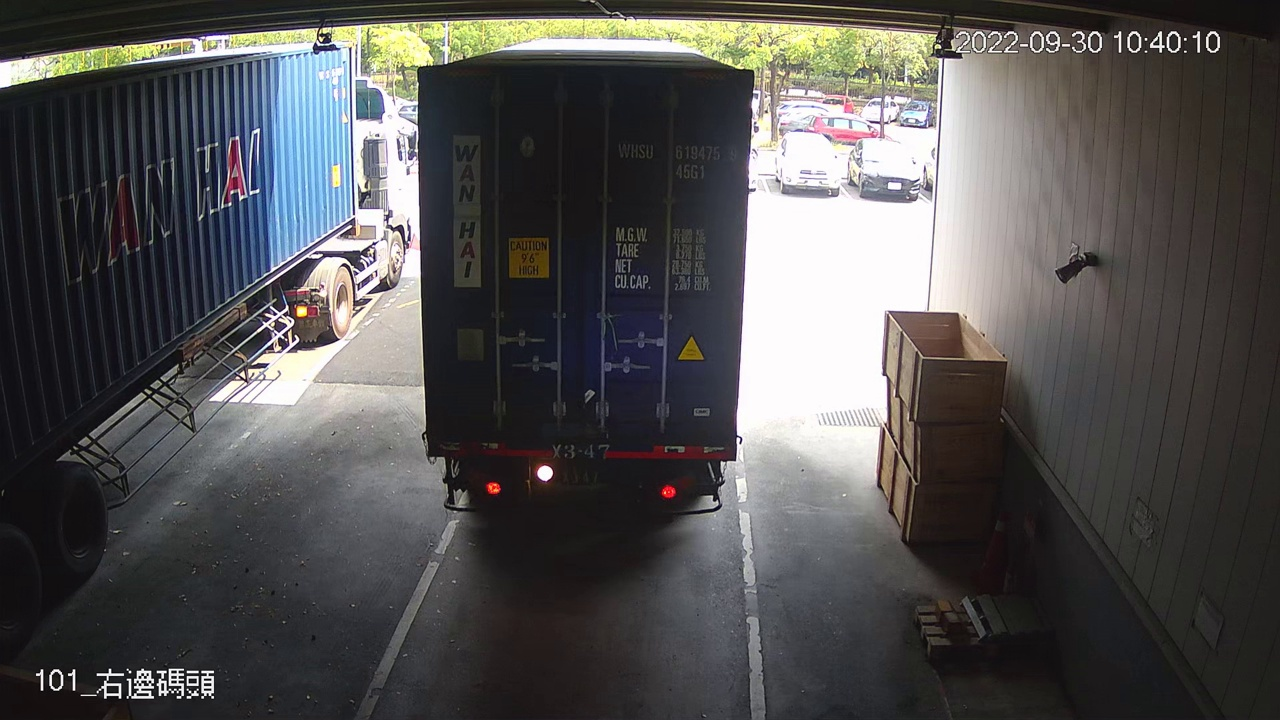container: (613, 136, 744, 184)
